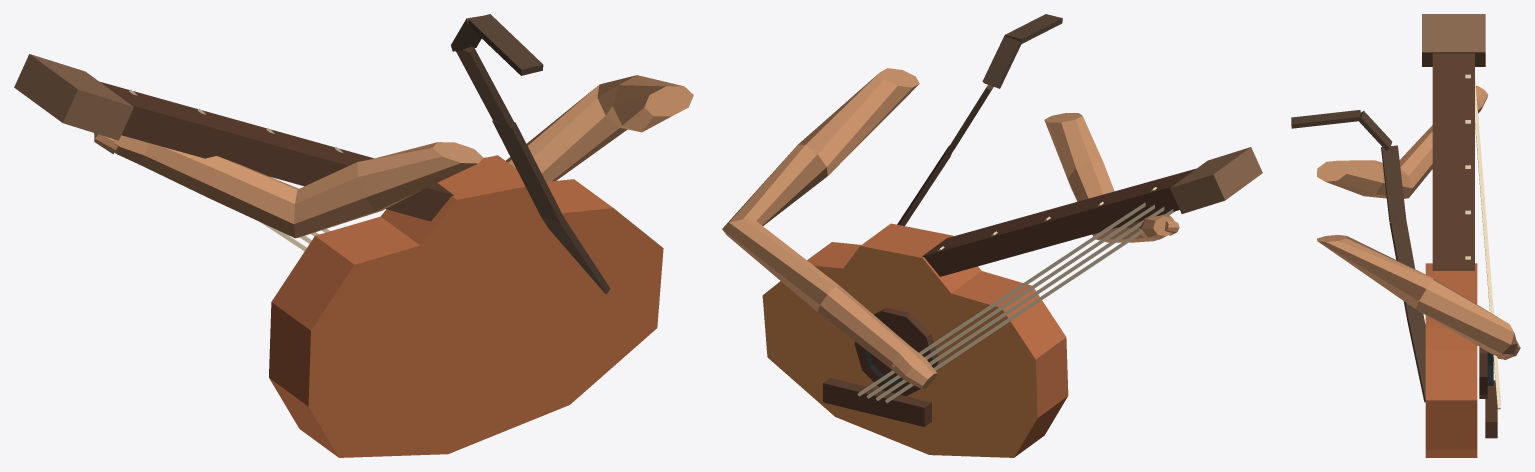
File: lwf_guitarist_female_kit_v1.glb
3 views of the same model, side by side, from view 1: azimuth 30°, elevation 25°; view 2: azimuth 150°, elevation 25°; view 3: azimuth 270°, elevation 25° (orthographic). The views are drawn at different scales.
Visible parts, largest first — view 1: LWF_Guitarist_AcousticGuitar, LWF_Guitarist_LeftPlayingArm, LWF_Guitarist_RightPlayingArm, LWF_Fitted_LeatherStrap; view 2: LWF_Guitarist_AcousticGuitar, LWF_Guitarist_RightPlayingArm, LWF_Guitarist_LeftPlayingArm, LWF_Fitted_LeatherStrap; view 3: LWF_Guitarist_AcousticGuitar, LWF_Guitarist_RightPlayingArm, LWF_Fitted_LeatherStrap, LWF_Guitarist_LeftPlayingArm.
Boxes of the visible parts, x1,y1,x2,y2 form: LWF_Guitarist_AcousticGuitar: [14, 54, 663, 457]; LWF_Guitarist_LeftPlayingArm: [94, 133, 483, 238]; LWF_Guitarist_RightPlayingArm: [506, 75, 693, 181]; LWF_Fitted_LeatherStrap: [451, 14, 610, 294]; LWF_Guitarist_AcousticGuitar: [762, 147, 1262, 457]; LWF_Guitarist_RightPlayingArm: [722, 68, 937, 389]; LWF_Guitarist_LeftPlayingArm: [1044, 113, 1179, 242]; LWF_Fitted_LeatherStrap: [897, 14, 1062, 225]; LWF_Guitarist_AcousticGuitar: [1422, 14, 1500, 457]; LWF_Guitarist_RightPlayingArm: [1317, 235, 1520, 359]; LWF_Fitted_LeatherStrap: [1291, 110, 1425, 402]; LWF_Guitarist_LeftPlayingArm: [1317, 85, 1487, 198].
Bounding box in the file's own units: 1.01 × 0.733 × 0.4876.
3 materials, 3 textured.
